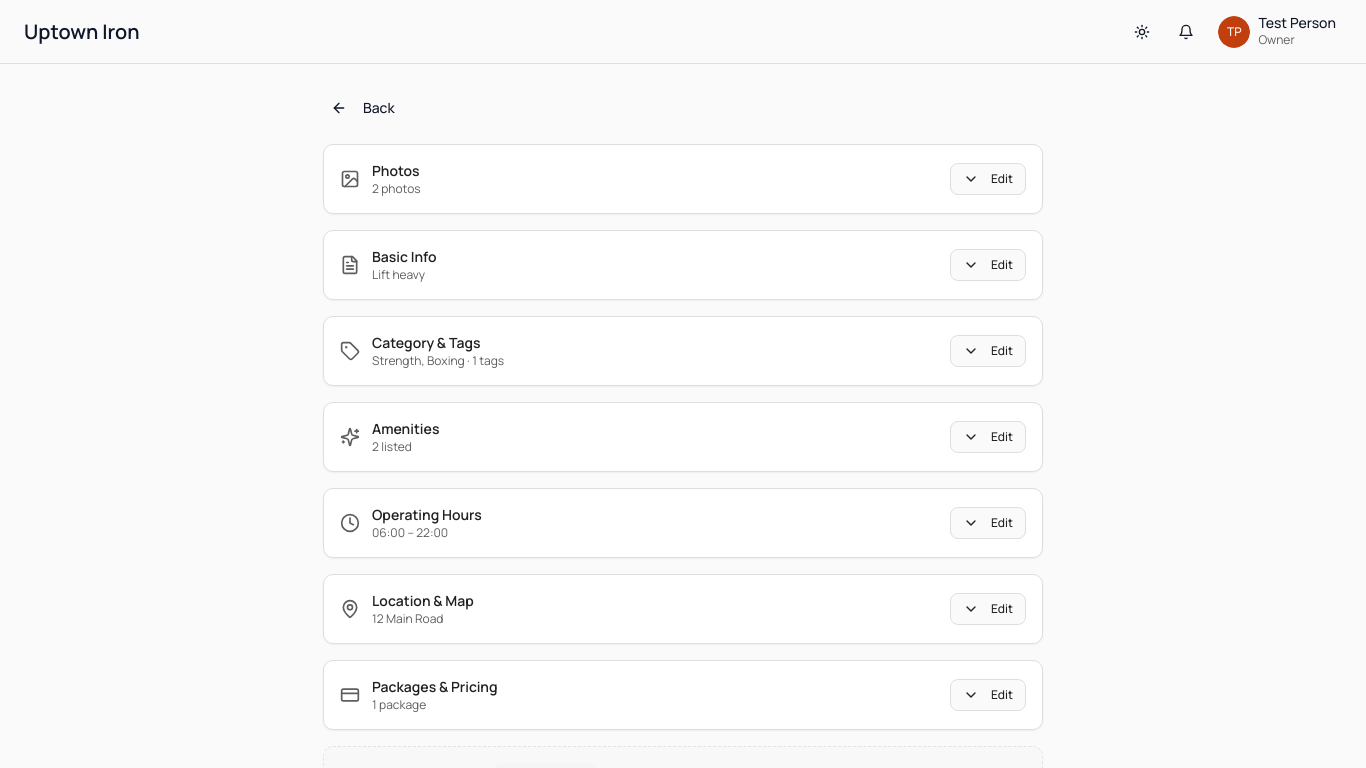
Scenario: Listing editor: Operating Hours › will not save half a pair
The width and height of the screenshot is (1366, 768).
Click the button "Edit" in the row of "Operating Hours".
click(988, 523)  # box [950, 507, 1026, 539]
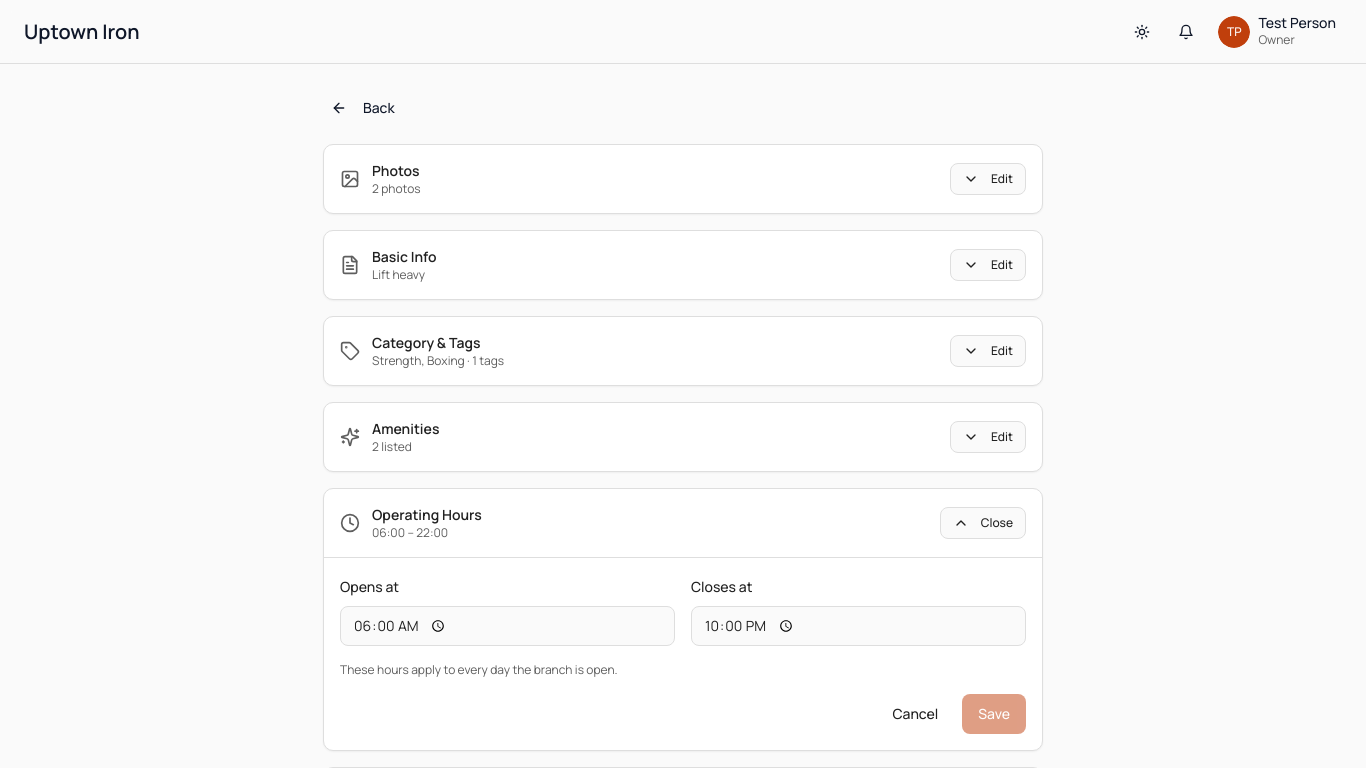
Clear the time field labelled "Opens at" at coordinates (508, 626), box [340, 606, 675, 646]
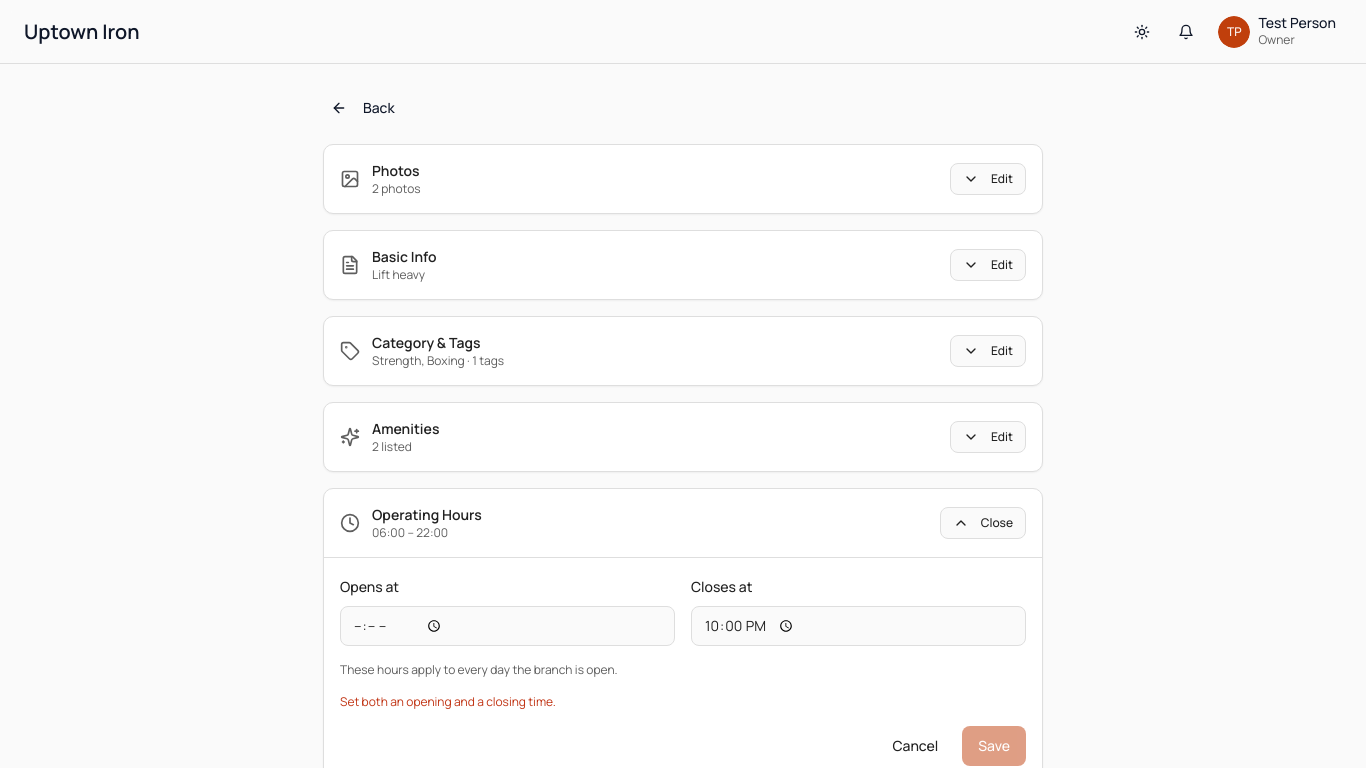
Expected: the button "Save" is disabled, [962, 726, 1026, 766]
Expected: the text "Set both an opening and a closing time." is shown, [340, 693, 556, 710]
